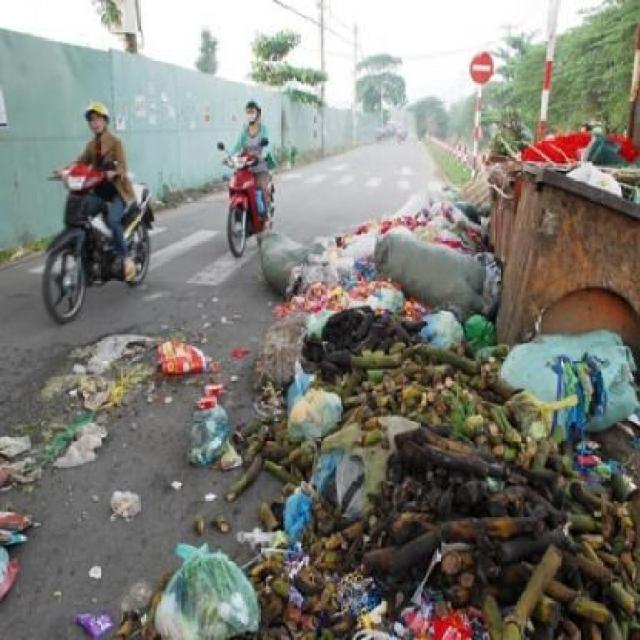plastic bag: (497, 328, 638, 446), (508, 123, 638, 208), (157, 530, 257, 628), (65, 326, 157, 422), (250, 229, 342, 297), (186, 391, 248, 474), (420, 310, 498, 362), (0, 503, 34, 608), (288, 380, 340, 448), (51, 417, 111, 463), (154, 334, 208, 374), (69, 604, 117, 638), (106, 488, 140, 524), (0, 429, 32, 458)
